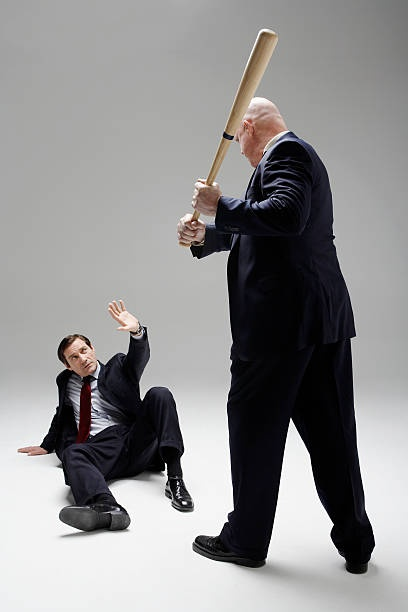bita: (184, 21, 275, 236)
